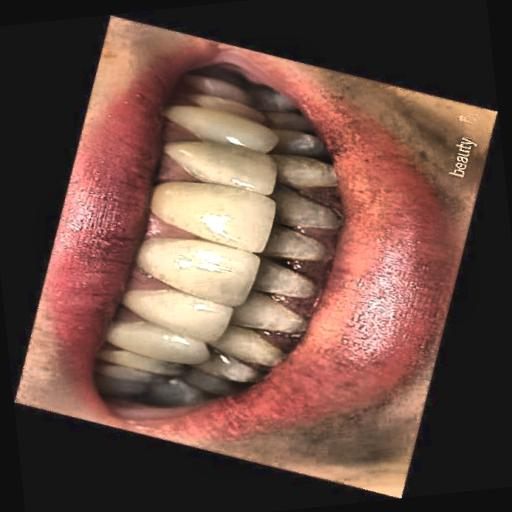Healthy: (76, 30, 358, 453)
